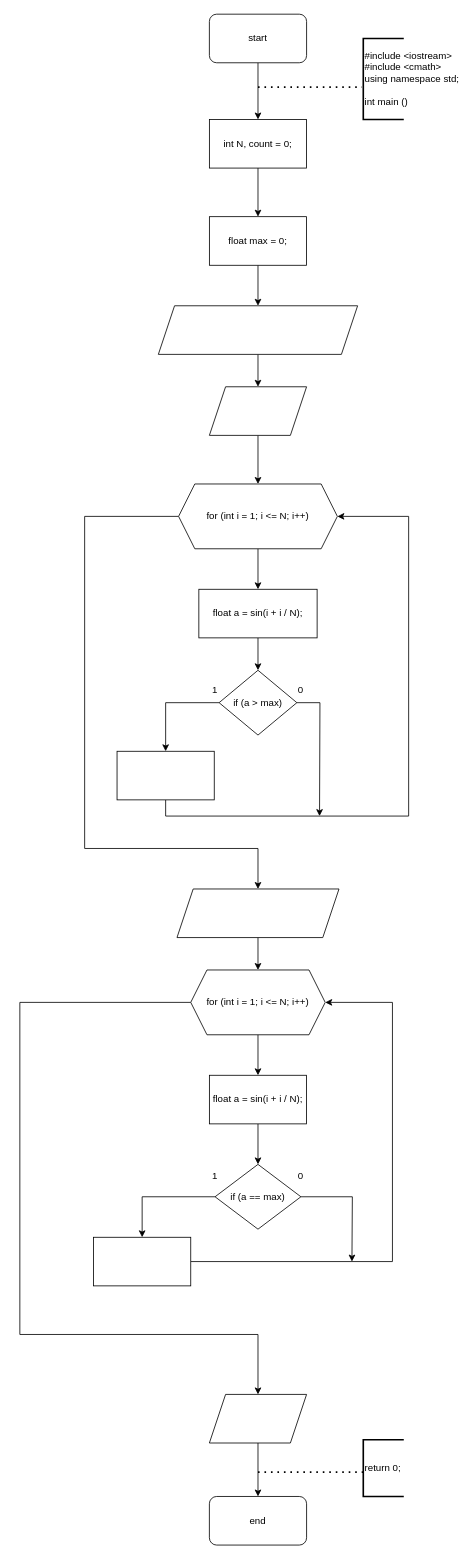
This 474x1559 diagram has some shape labels left out. Here are the shapes that lost their labels. From the top down, the centre of each, then its label:
[258,329]: cout << "введите N ";
[258,410]: cin >> N;
[165,775]: max = a;
[257,913]: cout << "max = " << max << std::endl;
[142,1261]: count++;
[258,1418]: cout << count;
